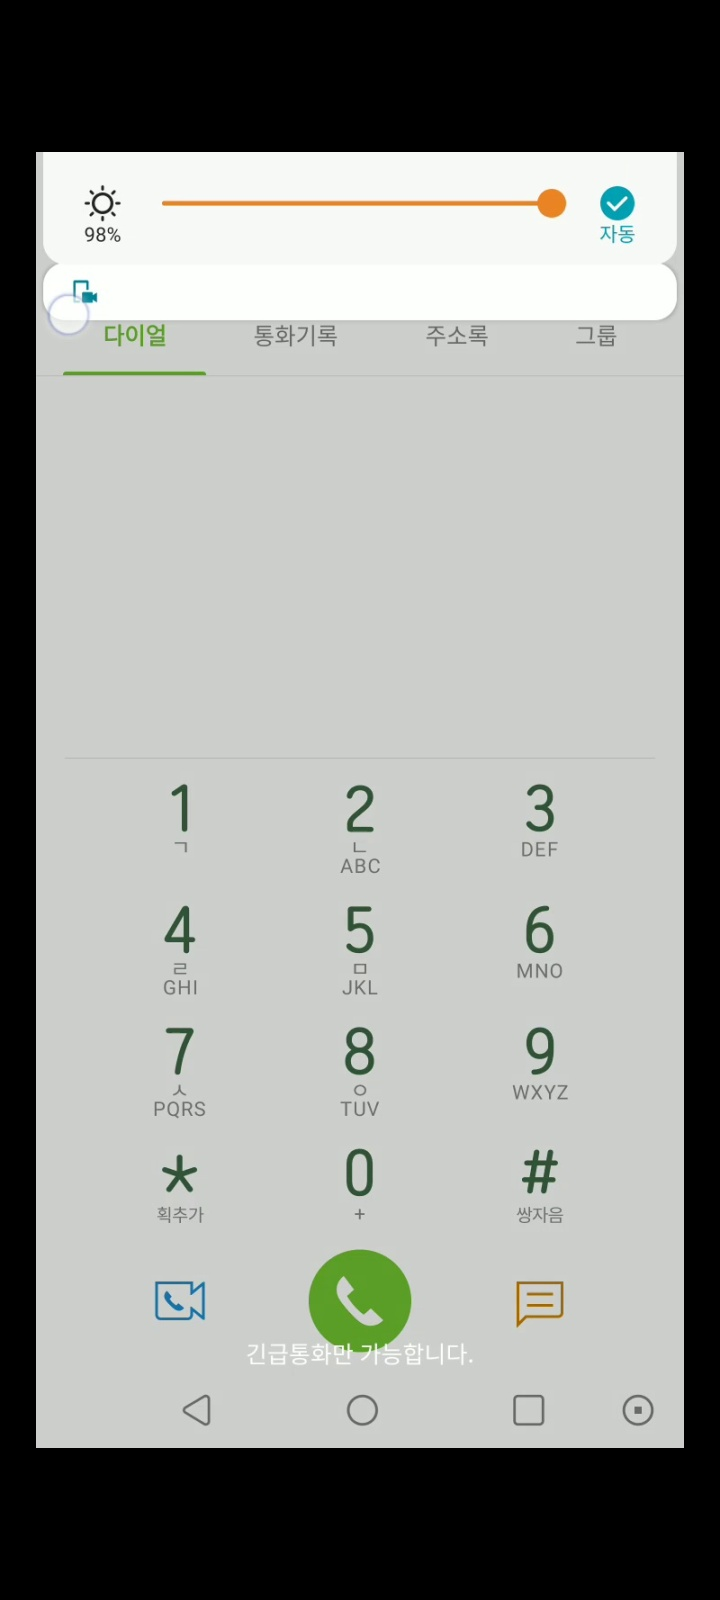Cursor: (47, 294, 92, 339)
